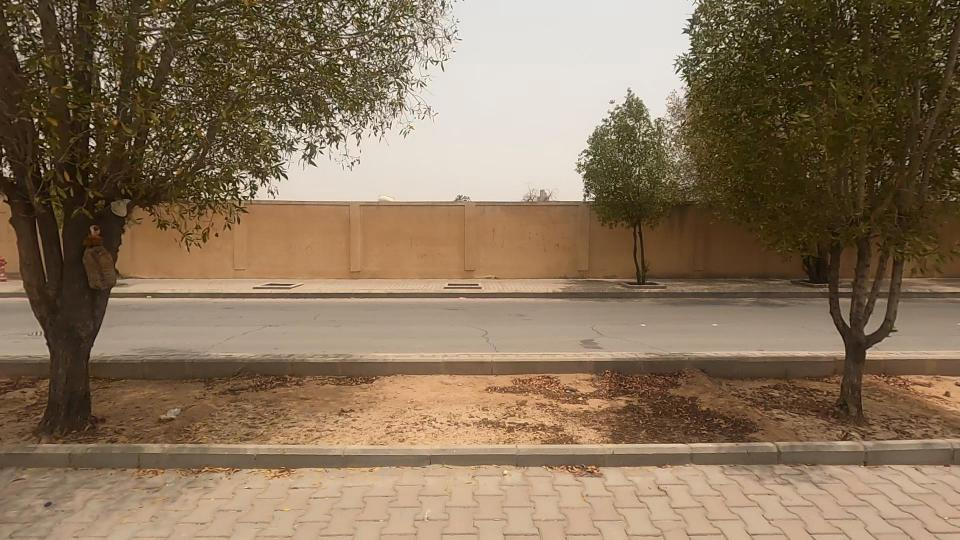CLUTTER_SIDEWALK: (0, 304, 785, 499)
